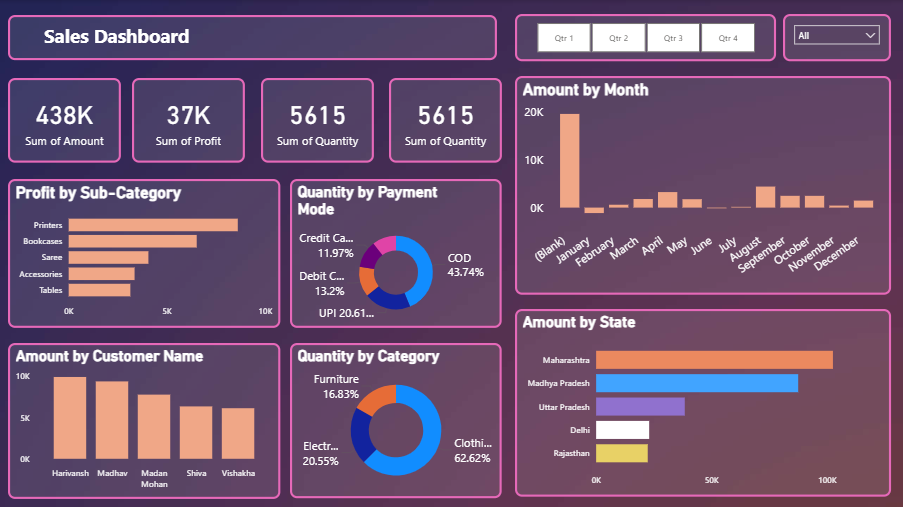

The dashboard page shown, as its layout file describes it:
{"tool":"powerbi","page":{"name":"Sales Dashboard","canvas":[1280,720],"ordinal":0},"visuals":[{"type":"columnChart","title":"Amount by Month","fields":{"Category":["Orders.Order Date.Variation.Date Hierarchy.Month"],"Y":["Sum(Details.Profit)"]},"box":[731.3,107.7,532.9,310.4],"z":0},{"type":"barChart","title":"Profit by Sub-Category","fields":{"Category":["Details.Sub-Category"],"Y":["Sum(Details.Profit)"]},"box":[12.8,253.7,385.5,211.2],"z":1000},{"type":"donutChart","title":"Quantity by Category","fields":{"Category":["Details.Category"],"Y":["Sum(Details.Quantity)"]},"box":[412.4,486.1,300.5,220],"z":2000},{"type":"donutChart","title":"Quantity by Payment Mode","fields":{"Y":["Sum(Details.Quantity)"],"Category":["Details.PaymentMode"]},"box":[412.4,253.7,300.5,211.2],"z":3000},{"type":"card","fields":{"Values":["Sum(Details.Amount)"]},"box":[12.8,110.6,160.2,120.5],"z":4000},{"type":"card","fields":{"Values":["Sum(Details.Profit)"]},"box":[188.5,110.6,160.2,120.5],"z":5000},{"type":"card","fields":{"Values":["Sum(Details.Quantity)"]},"box":[371.3,110.6,160.2,120.5],"z":6000},{"type":"card","fields":{"Values":["Sum(Details.Quantity)"]},"box":[552.8,110.6,160.2,120.5],"z":7000},{"type":"barChart","title":"Amount by State","fields":{"Category":["Orders.State"],"Y":["Sum(Details.Amount)"]},"box":[731.3,438,532.9,266.5],"z":8000},{"type":"columnChart","title":"Amount by Customer Name","fields":{"Category":["Orders.Customer Name"],"Y":["Sum(Details.Amount)"]},"box":[12.8,486.1,385.5,221.1],"z":9000},{"type":"textbox","box":[12.8,21.3,693.1,63.8],"z":10000},{"type":"slicer","fields":{"Values":["Orders.Order Date.Variation.Date Hierarchy.Quarter"]},"box":[731.3,19.8,369.9,66.6],"z":11000},{"type":"slicer","fields":{"Values":["Orders.State"]},"box":[1111.2,19.8,153.1,66.6],"z":12000}]}

Visuals, with their boxes in screenshot pixels (x1, y1, x2, y2), scaled from the page's 1280x720 canvas onto the 903x507 screenshot:
"Amount by Month" columnChart: bbox(516, 76, 892, 294)
"Profit by Sub-Category" barChart: bbox(9, 179, 281, 327)
"Quantity by Category" donutChart: bbox(291, 342, 503, 497)
"Quantity by Payment Mode" donutChart: bbox(291, 179, 503, 327)
card - Sum(Details.Amount): bbox(9, 78, 122, 163)
card - Sum(Details.Profit): bbox(133, 78, 246, 163)
card - Sum(Details.Quantity): bbox(262, 78, 375, 163)
card - Sum(Details.Quantity): bbox(390, 78, 503, 163)
"Amount by State" barChart: bbox(516, 308, 892, 496)
"Amount by Customer Name" columnChart: bbox(9, 342, 281, 498)
textbox: bbox(9, 15, 498, 60)
slicer - Orders.Order Date.Variation.Date Hierarchy.Quarter: bbox(516, 14, 777, 61)
slicer - Orders.State: bbox(784, 14, 892, 61)
